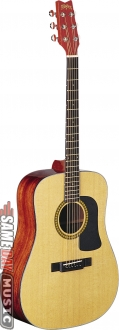guitar: (5, 1, 119, 330)
